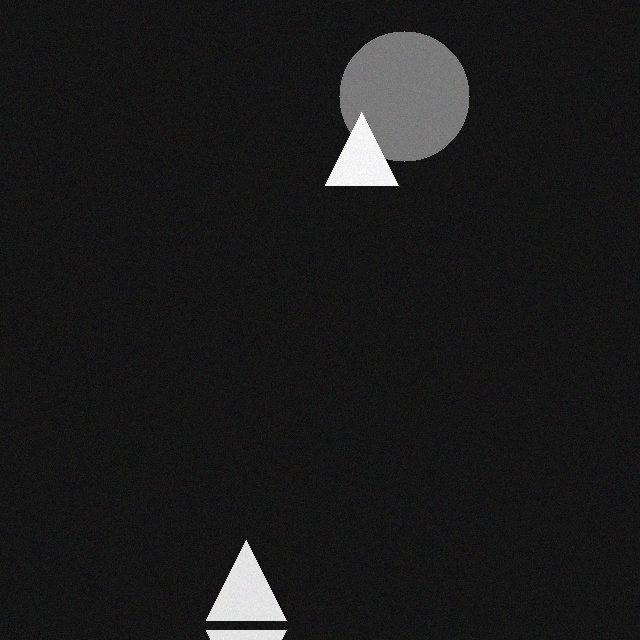circle: (330, 45, 460, 175)
triangle: (197, 554, 277, 634), (316, 126, 389, 199)
